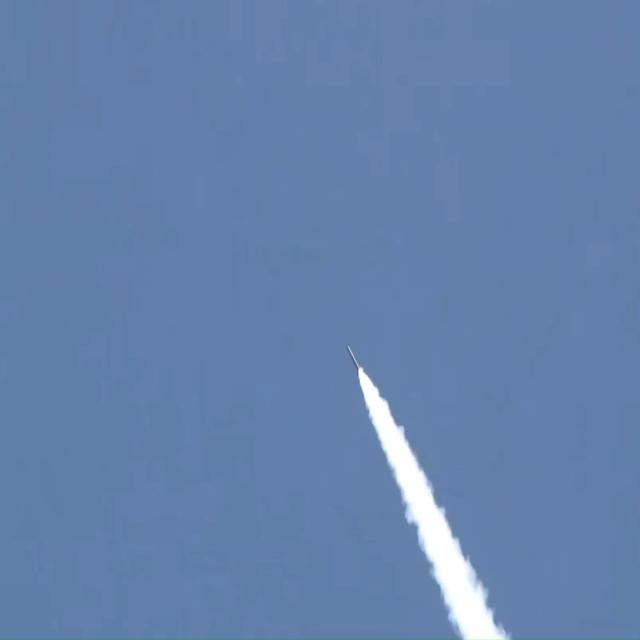Rocket: (347, 346, 362, 376)
